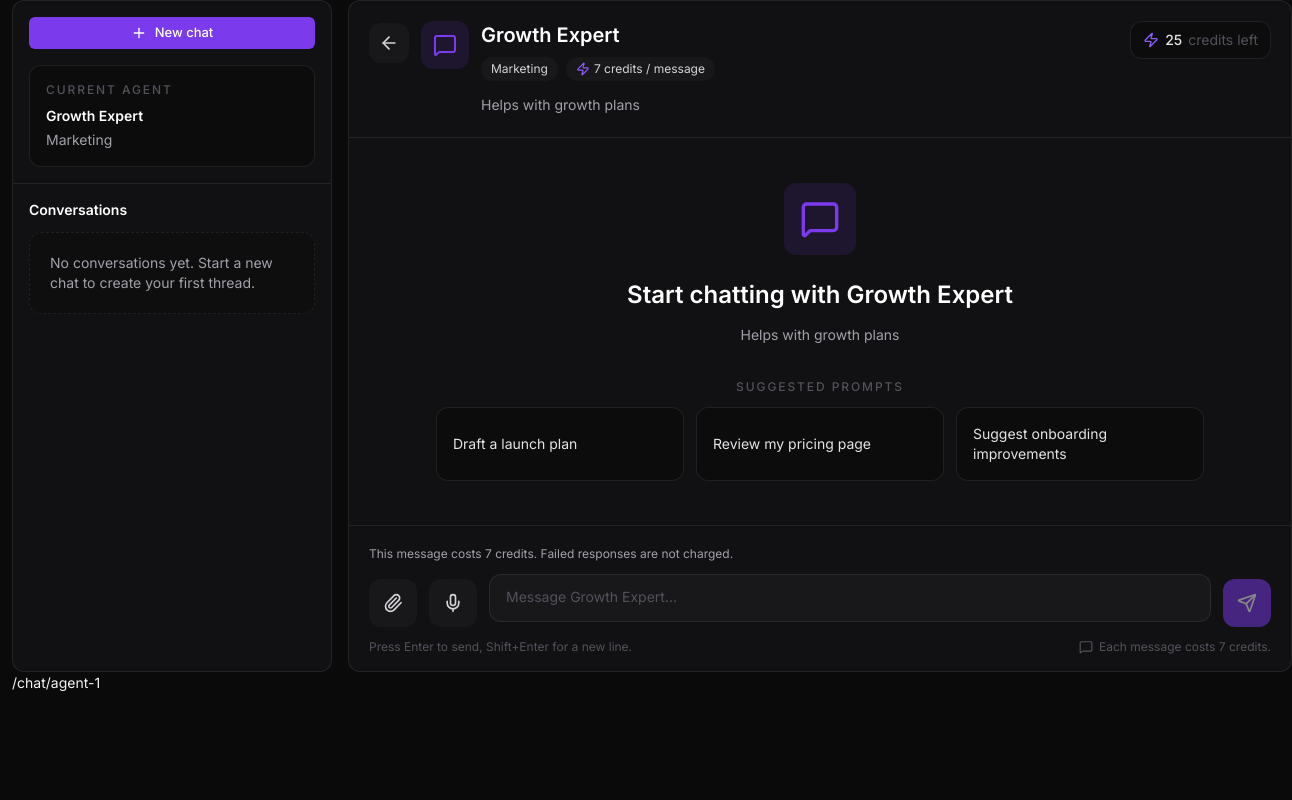
ChatPage › keeps insufficient credits 402 actionable with a buy credits link and preserves the draft
Step 1. Type "Help me plan a launch" into the text box → (850, 598), box [489,574,1211,622]
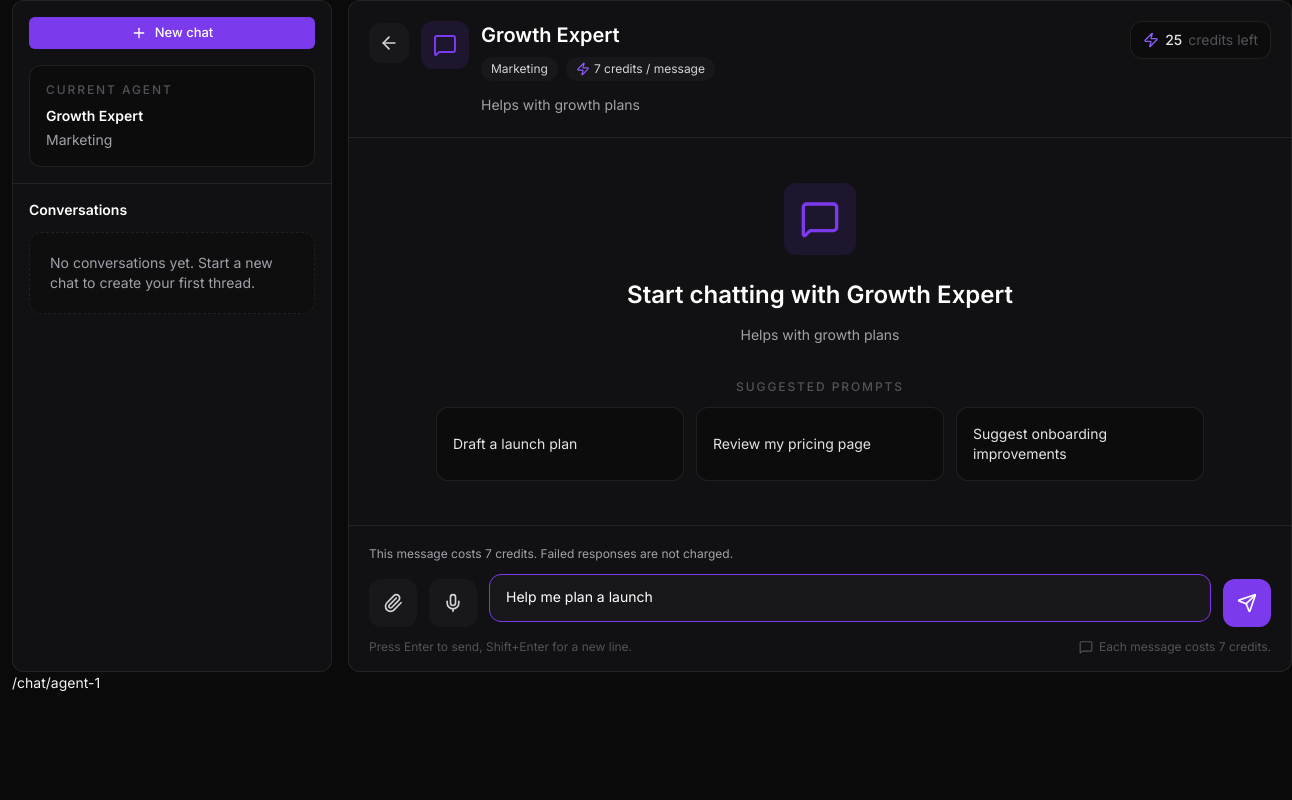
Step 2. Press Enter
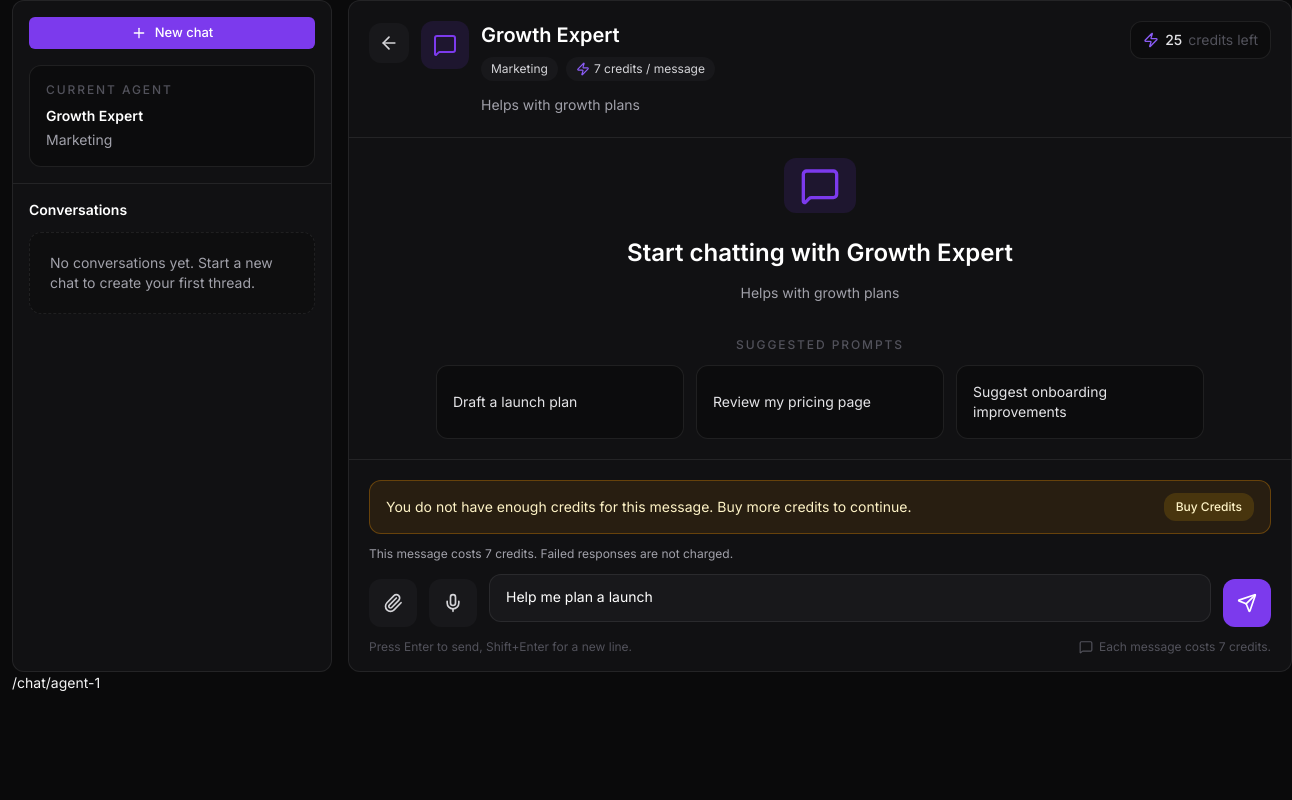
Expected: the text with test id "location-display" reads "/chat/agent-1", [12,674,100,691]
Now the text box holds "Help me plan a launch", box [489,574,1211,622]
Now the text "You do not have enough credits for this message. Buy more credits to continue." is shown, box [386,497,912,517]
